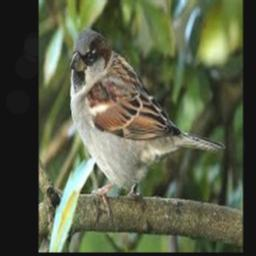Sparrow: (70, 27, 225, 213)
